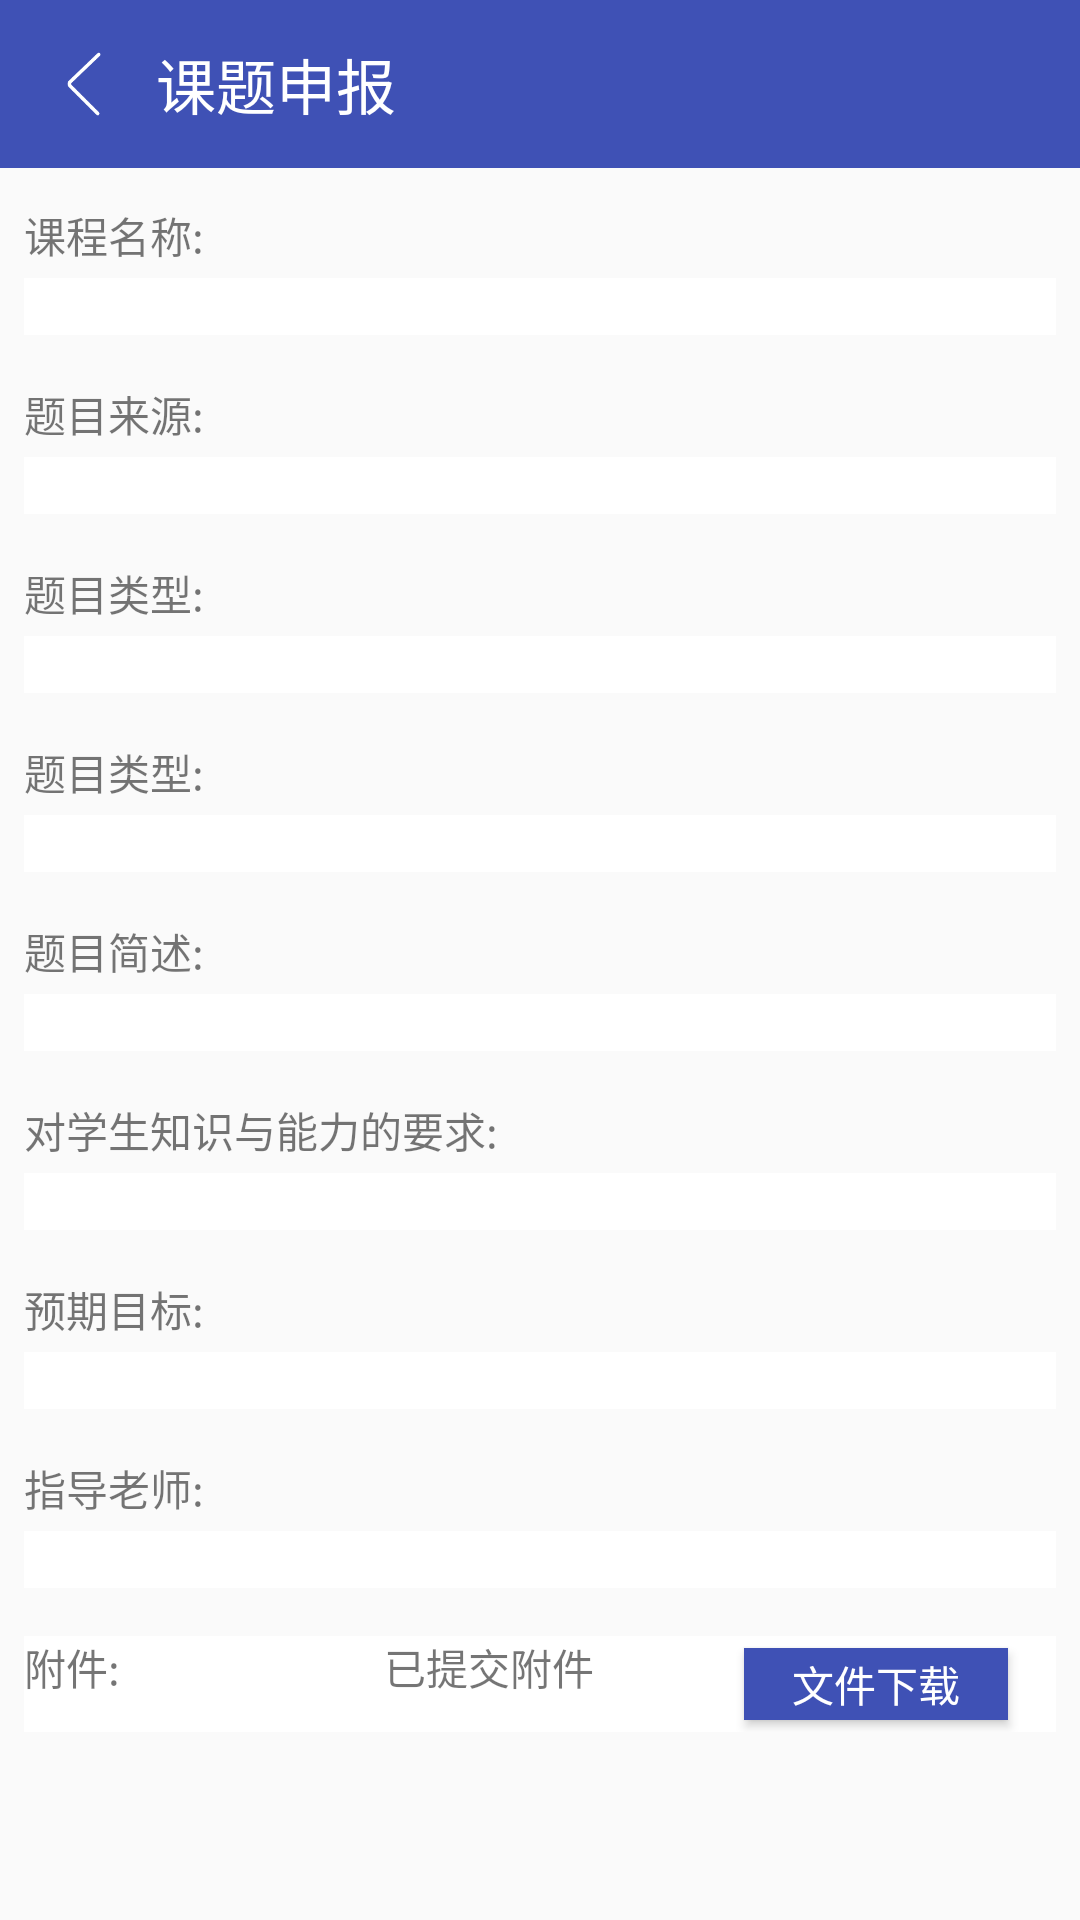

Screen size 1080px x 1920px. Icon name, then its center in pixels as (x=x, y=y):
arrowleft: (x=84, y=84)
